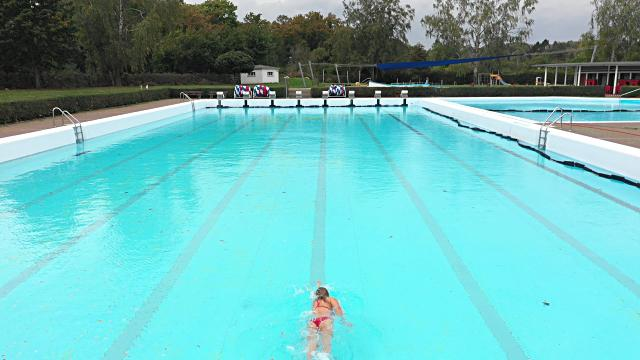swimmer: (307, 280, 351, 359)
